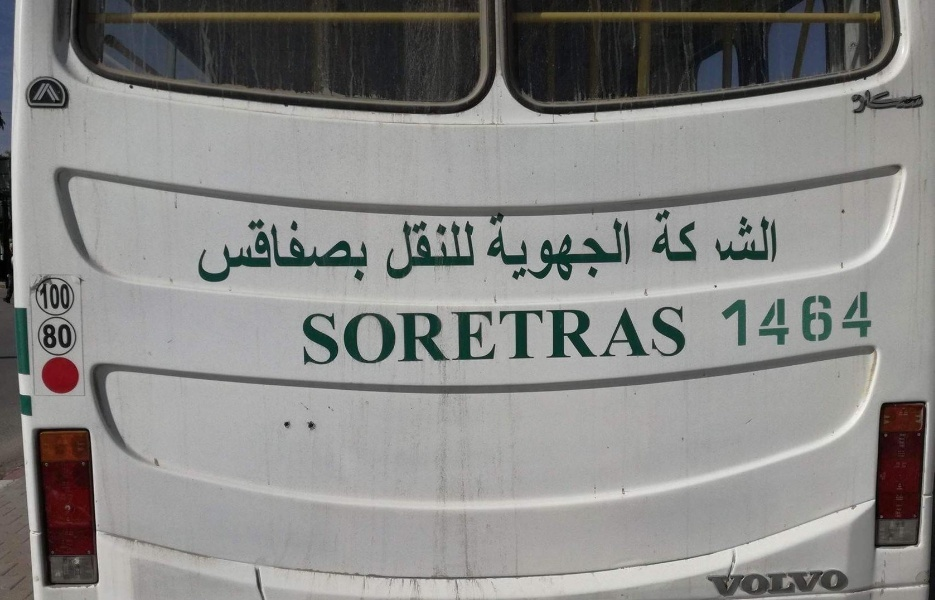text: (497, 214, 512, 288), (513, 214, 528, 288), (529, 214, 544, 288), (545, 214, 560, 288), (561, 214, 576, 288), (577, 214, 592, 288), (593, 214, 608, 288), (609, 214, 624, 288), (209, 218, 224, 284), (225, 218, 240, 284), (241, 218, 256, 284), (257, 218, 272, 284), (273, 218, 288, 284), (289, 218, 304, 284), (305, 218, 320, 284), (321, 218, 336, 284), (337, 218, 352, 284), (353, 218, 368, 284), (673, 306, 689, 367), (465, 221, 481, 281), (305, 306, 320, 367), (321, 306, 336, 367), (337, 306, 352, 367), (353, 306, 368, 367), (369, 306, 384, 367), (385, 306, 400, 367), (401, 306, 416, 367), (417, 306, 432, 367), (433, 306, 448, 367), (449, 306, 464, 367), (465, 306, 480, 367), (481, 306, 496, 367), (497, 306, 512, 367), (513, 306, 528, 367), (529, 306, 544, 367), (545, 306, 560, 367), (561, 306, 576, 367), (577, 306, 592, 367), (593, 306, 608, 367), (609, 306, 624, 367), (625, 306, 640, 367), (641, 306, 656, 367), (657, 306, 672, 367), (385, 221, 400, 281), (401, 221, 416, 281), (417, 221, 432, 281), (433, 221, 448, 281), (449, 221, 464, 281), (721, 290, 736, 350), (737, 290, 752, 350), (753, 290, 768, 350), (769, 290, 784, 350), (785, 290, 800, 350), (801, 290, 816, 350), (817, 290, 832, 350), (833, 290, 848, 350), (849, 290, 864, 350), (657, 210, 672, 264), (673, 210, 688, 264), (689, 210, 704, 264), (705, 210, 720, 264), (721, 210, 736, 264), (737, 210, 752, 264), (753, 210, 768, 264), (196, 218, 208, 284), (625, 214, 634, 288), (865, 290, 875, 350), (769, 210, 779, 264), (490, 214, 496, 288), (49, 281, 64, 310), (705, 569, 720, 598), (721, 569, 736, 598), (737, 569, 752, 598), (753, 569, 768, 598), (769, 569, 784, 598), (785, 569, 800, 598), (801, 569, 816, 598), (817, 569, 832, 598), (833, 569, 848, 598), (865, 89, 880, 114), (881, 89, 896, 114), (897, 89, 912, 114), (49, 324, 64, 349), (650, 210, 656, 264), (852, 89, 864, 114), (913, 89, 923, 114), (40, 281, 48, 310), (65, 324, 72, 349), (65, 281, 71, 310), (42, 324, 48, 349), (369, 218, 370, 284), (303, 306, 304, 367), (849, 569, 850, 598)
